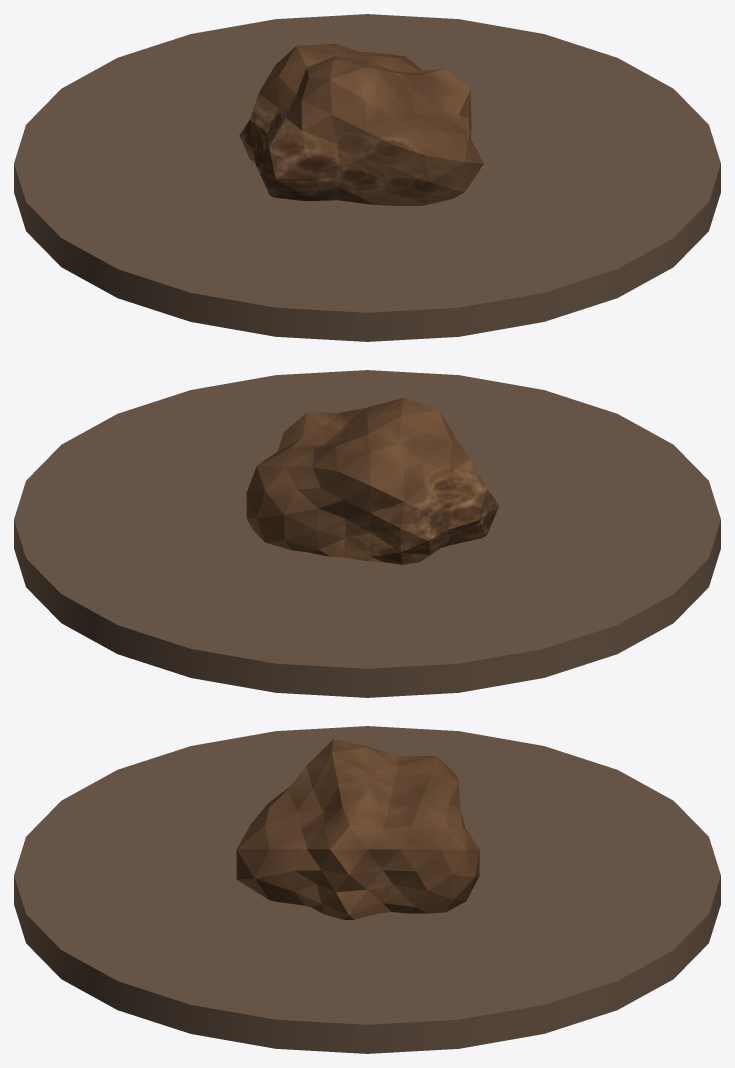
File: meteorit.glb
3 views of the same model, one above another, from view 1: azimuth 30°, elevation 25°; view 2: azimuth 150°, elevation 25°; view 3: azimuth 270°, elevation 25° (orthographic).
Visible parts, largest first — view 1: Tanah, Batu; view 2: Tanah, Batu; view 3: Tanah, Batu.
Boxes of the visible parts, left/top/right/bottom form: Tanah: left=14, top=14, right=720, bottom=341; Batu: left=239, top=43, right=483, bottom=205; Tanah: left=14, top=370, right=720, bottom=697; Batu: left=246, top=397, right=498, bottom=564; Tanah: left=14, top=726, right=720, bottom=1053; Batu: left=236, top=739, right=479, bottom=919.
Size of the model in its own units: 0.44 by 0.1199 by 0.44.
Materials: 2 (1 with a texture image).
